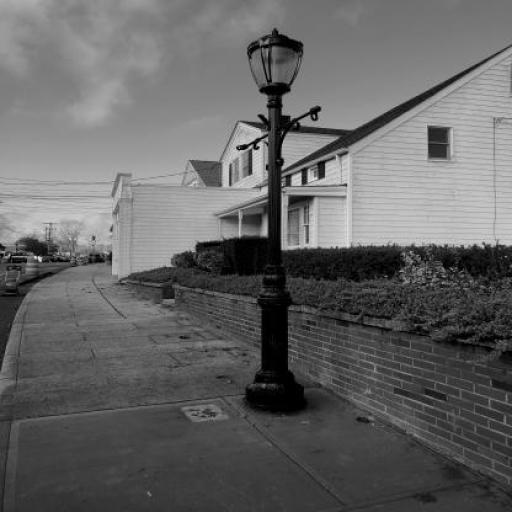street light: (242, 28, 311, 416)
